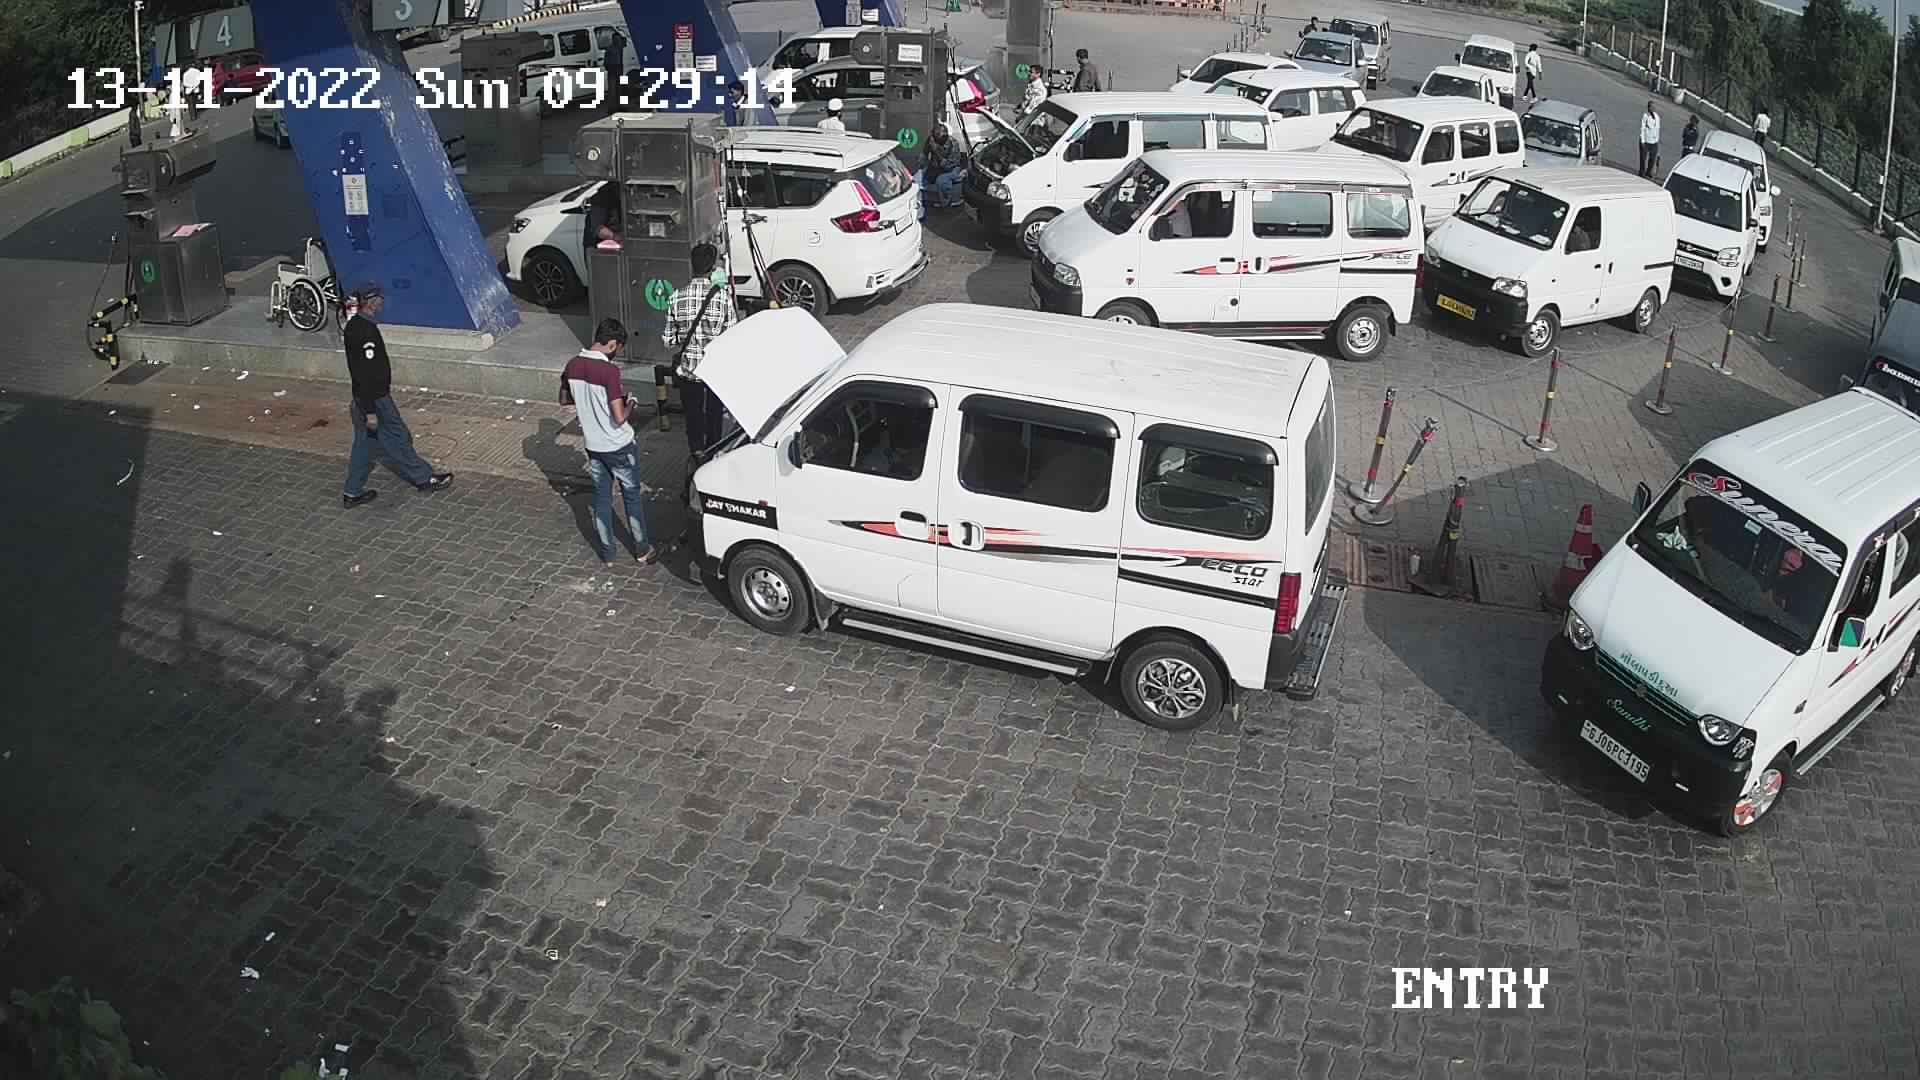Car: (667, 280, 1348, 738), (1524, 381, 1920, 820), (508, 108, 936, 332), (1030, 149, 1433, 357), (960, 76, 1279, 252), (1403, 154, 1677, 353), (1302, 75, 1552, 249), (1170, 42, 1387, 187), (1646, 142, 1766, 307), (492, 15, 659, 121), (746, 8, 886, 107), (1683, 121, 1783, 255), (934, 45, 1019, 173), (1845, 291, 1915, 419), (1279, 22, 1375, 107), (1511, 92, 1606, 171), (1390, 59, 1506, 121), (1447, 26, 1523, 113), (1331, 7, 1396, 94), (1859, 227, 1917, 323)
